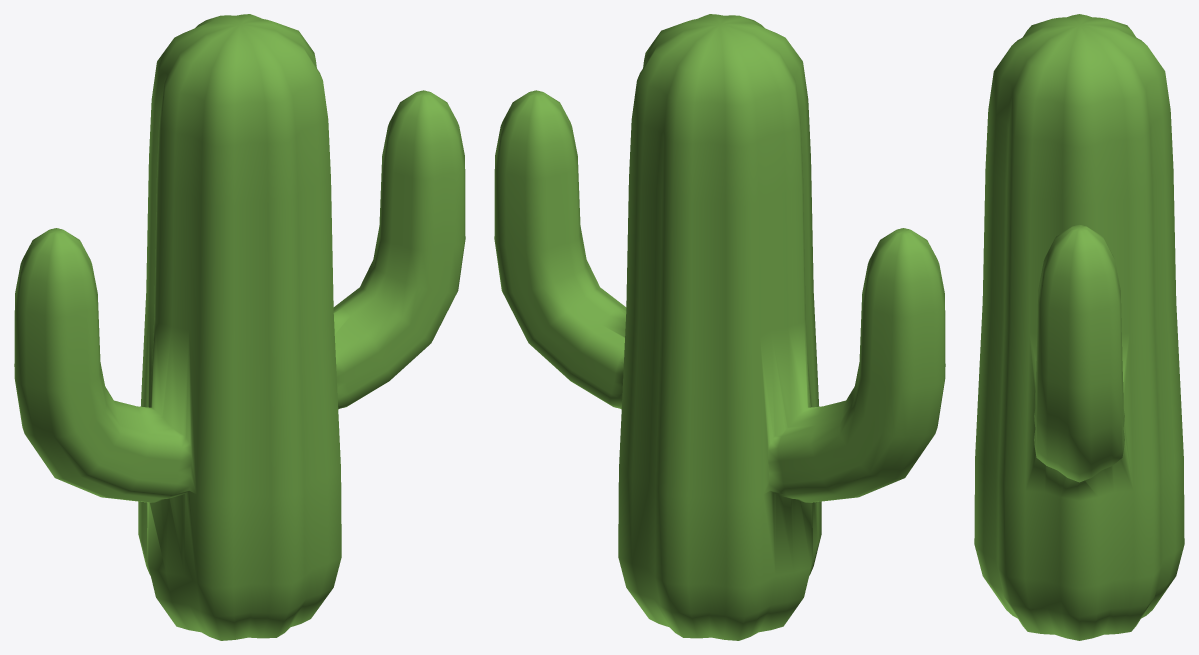
The model's file is deco-cactus.glb.
3 views of the same model, side by side, from view 1: azimuth 30°, elevation 25°; view 2: azimuth 150°, elevation 25°; view 3: azimuth 270°, elevation 25° (orthographic).
Parts seen in each view (by area): view 1: deco-cactus; view 2: deco-cactus; view 3: deco-cactus.
Part boxes in pixels (bbox=[...]): deco-cactus: bbox=[14, 14, 465, 640]; deco-cactus: bbox=[494, 14, 945, 640]; deco-cactus: bbox=[974, 14, 1184, 640].
Size of the model in its own units: 3.99 by 5 by 1.63.
